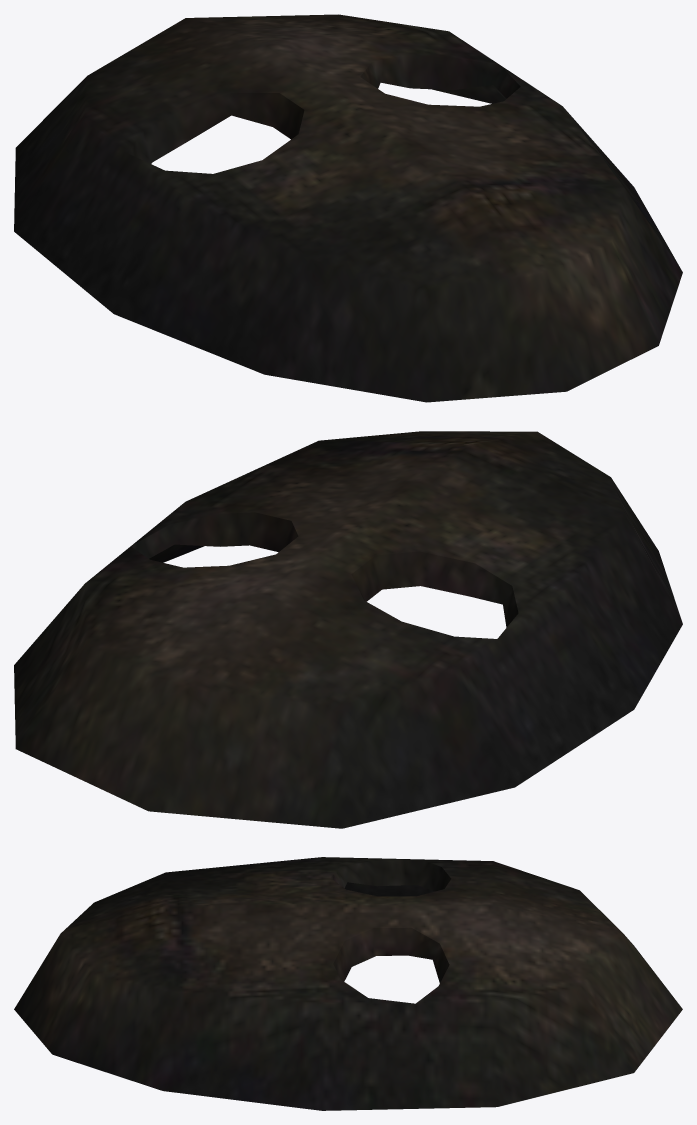
Rendered from mask_mx_3.obj.
The picture shows the model from 3 angles, top to bottom: view 1: azimuth 30°, elevation 25°; view 2: azimuth 150°, elevation 25°; view 3: azimuth 270°, elevation 25°; orthographic projection. The views are drawn at different scales.
Visible parts, largest first — view 1: mask_mx_3; view 2: mask_mx_3; view 3: mask_mx_3.
Part boxes in pixels (left/top/right/bottom): mask_mx_3: left=14, top=14, right=682, bottom=402; mask_mx_3: left=14, top=431, right=682, bottom=828; mask_mx_3: left=14, top=857, right=682, bottom=1110.
Bounding box in the file's own units: 0.2297 × 0.0554 × 0.3198.
